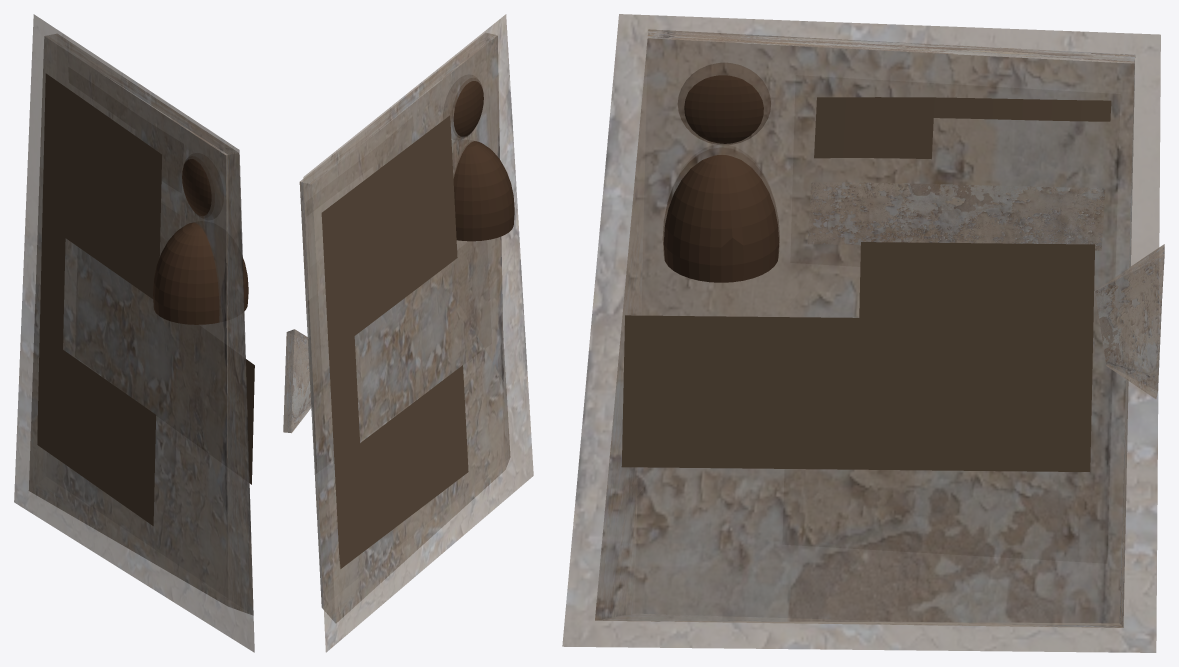
The model's file is historialobj2.obj.
The picture shows the model from 3 angles, left to right: view 1: azimuth 30°, elevation 25°; view 2: azimuth 150°, elevation 25°; view 3: azimuth 270°, elevation 25°; orthographic projection. The views are drawn at different scales.
Visible parts, largest first — view 1: Cube, Cube.006, Cube.002, Cube.003, Cube.005; view 2: Cube, Cube.006, Cube.002, Cube.003; view 3: Cube, Cube.005, Cube.002, Cube.004, Cube.003.
Boxes of the visible parts, bbox=[...] form: Cube: bbox=[14, 14, 254, 652]; Cube.006: bbox=[37, 73, 161, 525]; Cube.002: bbox=[153, 222, 248, 324]; Cube.003: bbox=[182, 156, 214, 218]; Cube.005: bbox=[245, 359, 254, 484]; Cube: bbox=[283, 14, 533, 652]; Cube.006: bbox=[321, 115, 468, 568]; Cube.002: bbox=[453, 141, 514, 241]; Cube.003: bbox=[451, 77, 483, 138]; Cube: bbox=[562, 14, 1164, 652]; Cube.005: bbox=[621, 242, 1094, 471]; Cube.002: bbox=[663, 147, 779, 282]; Cube.004: bbox=[814, 97, 1111, 159]; Cube.003: bbox=[678, 63, 770, 144].
Size of the model in its own units: 0.3863 by 2.16 by 1.81.
